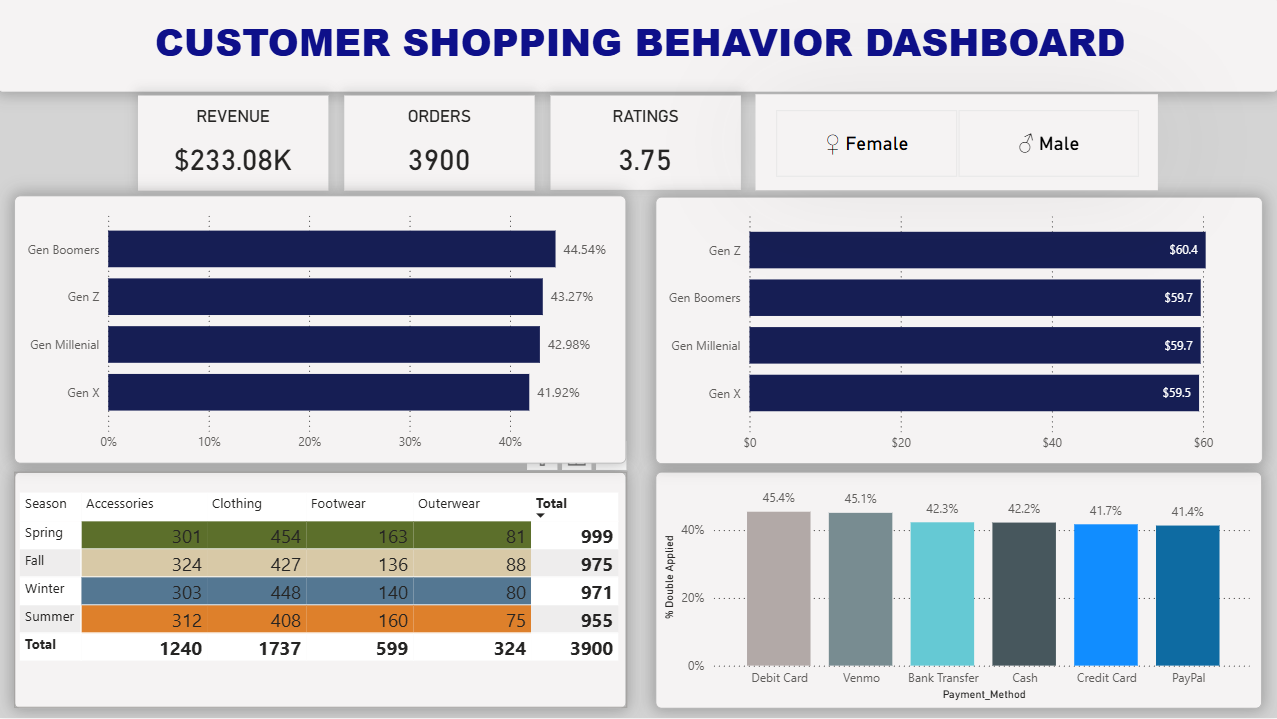

What the dashboard file says about the page in this screenshot:
{"tool":"powerbi","page":{"name":"Page 1","canvas":[1280,720],"ordinal":0},"visuals":[{"type":"pivotTable","fields":{"Rows":["shopping_behavior.Season"],"Columns":["shopping_behavior.Category"],"Values":["shopping_behavior.Total Transaction"]},"box":[16.2,473.3,612.2,236.7],"z":0},{"type":"textbox","box":[0,0,1280,93.8],"z":1000},{"type":"clusteredColumnChart","fields":{"Category":["shopping_behavior.Payment_Method"],"Y":["shopping_behavior.% Double Applied"]},"box":[657.2,473.3,606.7,236.7],"z":2000},{"type":"card","title":"REVENUE","fields":{"Values":["Sum(shopping_behavior.Purchase_Amount_USD)"]},"box":[139.7,97.1,190,95],"z":3000},{"type":"card","title":"ORDERS","fields":{"Values":["Count(shopping_behavior.Customer_ID)"]},"box":[346,97.1,190,95],"z":4000},{"type":"card","title":"RATINGS","fields":{"Values":["Avg(shopping_behavior.Review_Rating)"]},"box":[552.9,97.3,190,94.4],"z":5000},{"type":"barChart","fields":{"Category":["shopping_behavior.Generations"],"Y":["shopping_behavior.% Double Applied"]},"box":[16.2,197.8,612.2,267.8],"z":6000},{"type":"barChart","fields":{"Category":["shopping_behavior.Generations"],"Y":["Avg(shopping_behavior.Purchase_Amount_USD)"]},"box":[657.1,198.6,607.1,267.1],"z":7000},{"type":"slicer","fields":{"Values":["shopping_behavior.Gender Icon"]},"box":[757.5,96.2,402.5,96.2],"z":8000}]}

Visuals, with their boxes in screenshot pixels (x1, y1, x2, y2), scaled from the page's 1280x720 canvas onto the 1277x719 screenshot:
pivotTable - shopping_behavior.Season x shopping_behavior.Category: left=16, top=473, right=627, bottom=709
textbox: left=0, top=0, right=1276, bottom=94
clusteredColumnChart - shopping_behavior.Payment_Method x shopping_behavior.% Double Applied: left=656, top=473, right=1261, bottom=709
"REVENUE" card: left=139, top=97, right=329, bottom=192
"ORDERS" card: left=345, top=97, right=535, bottom=192
"RATINGS" card: left=552, top=97, right=741, bottom=191
barChart - shopping_behavior.Generations x shopping_behavior.% Double Applied: left=16, top=198, right=627, bottom=465
barChart - shopping_behavior.Generations x Avg(shopping_behavior.Purchase_Amount_USD): left=656, top=198, right=1261, bottom=465
slicer - shopping_behavior.Gender Icon: left=756, top=96, right=1157, bottom=192
